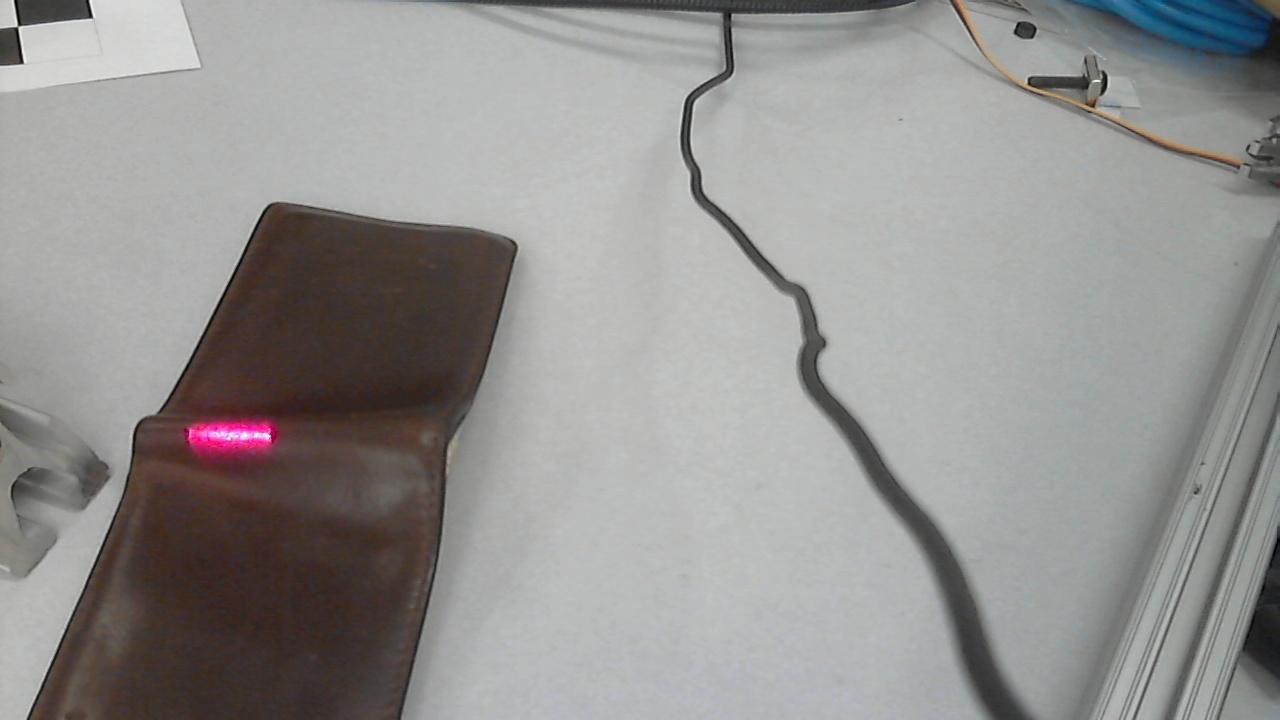Object bifold wallet - Material leather - Pdfname qb3CMu4EyzEc: (158, 395, 292, 471)
